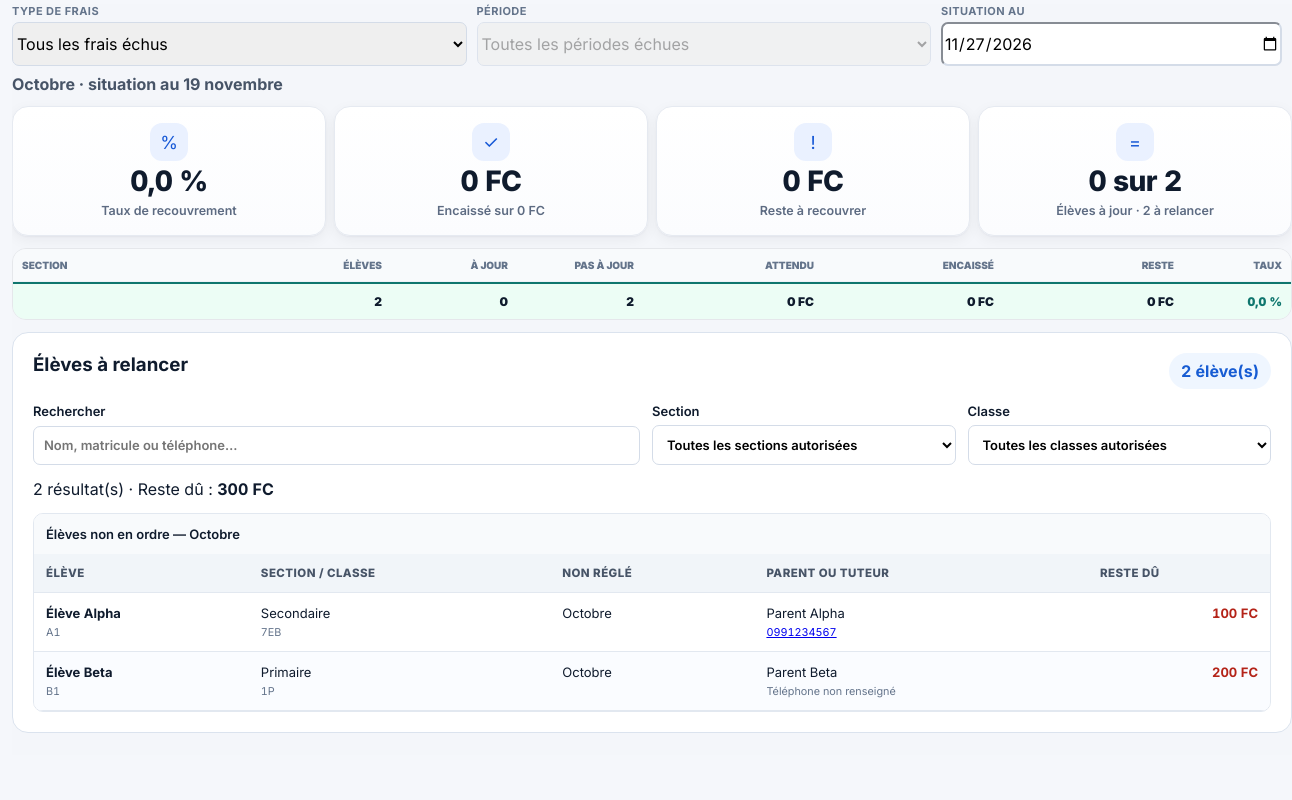
Test: shows named debtors and contacts, searches without accents, and filters by authorized section
Expected: the text "Élève Alpha" is shown, [46,605,121,621]
In the search field: (336, 445) [33,426,640,465], type "eleve alpha"
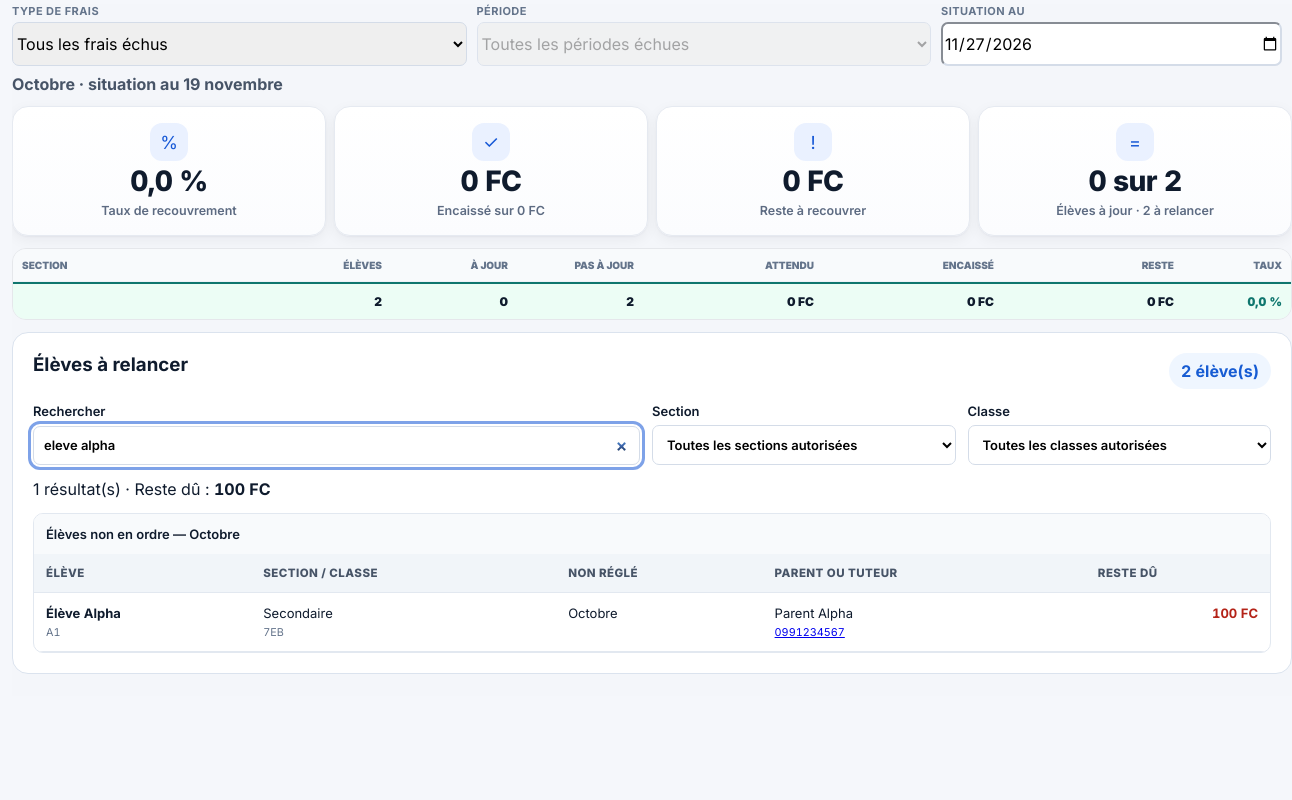
Now the text "Élève Beta" is gone
Clear the search field: (336, 445) [33,426,640,465]
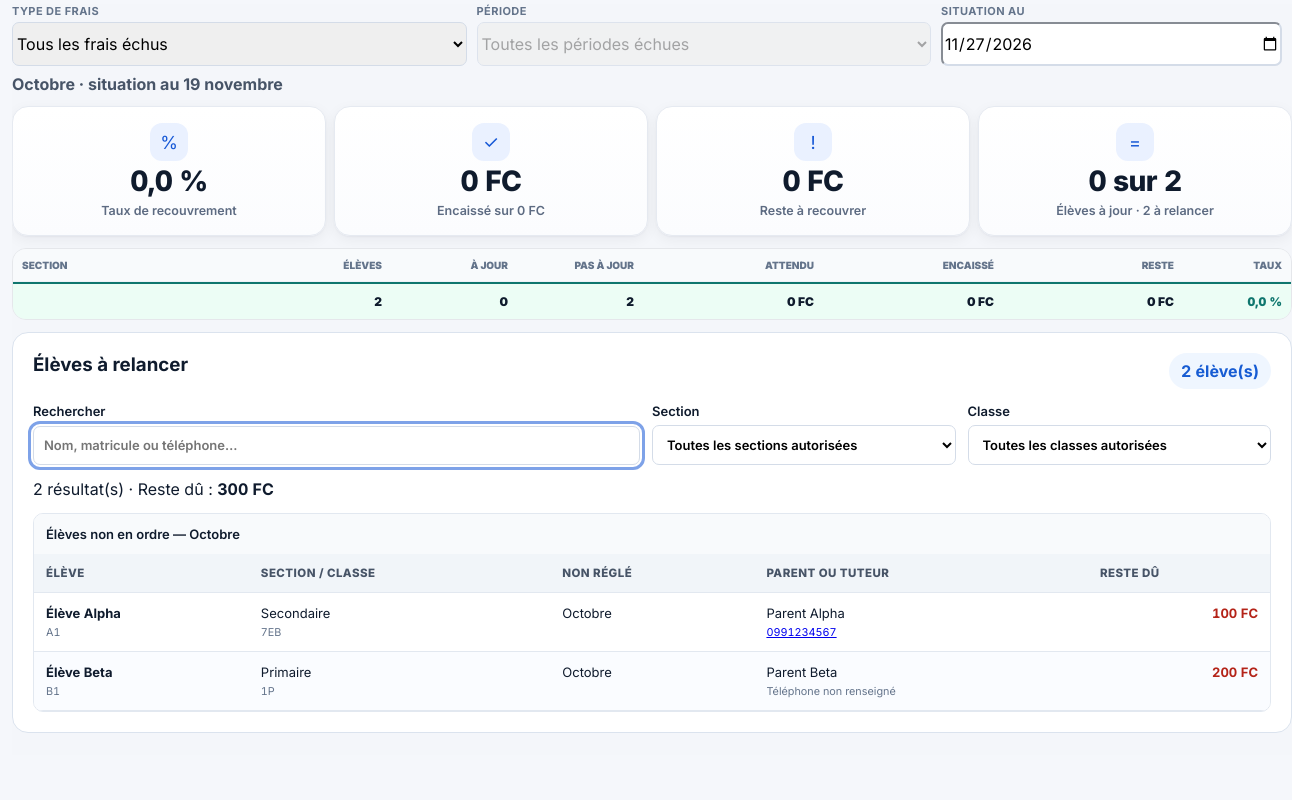
Select "Primaire" in the dropdown named "Section des élèves à relancer": (804, 445) [652,425,956,465]
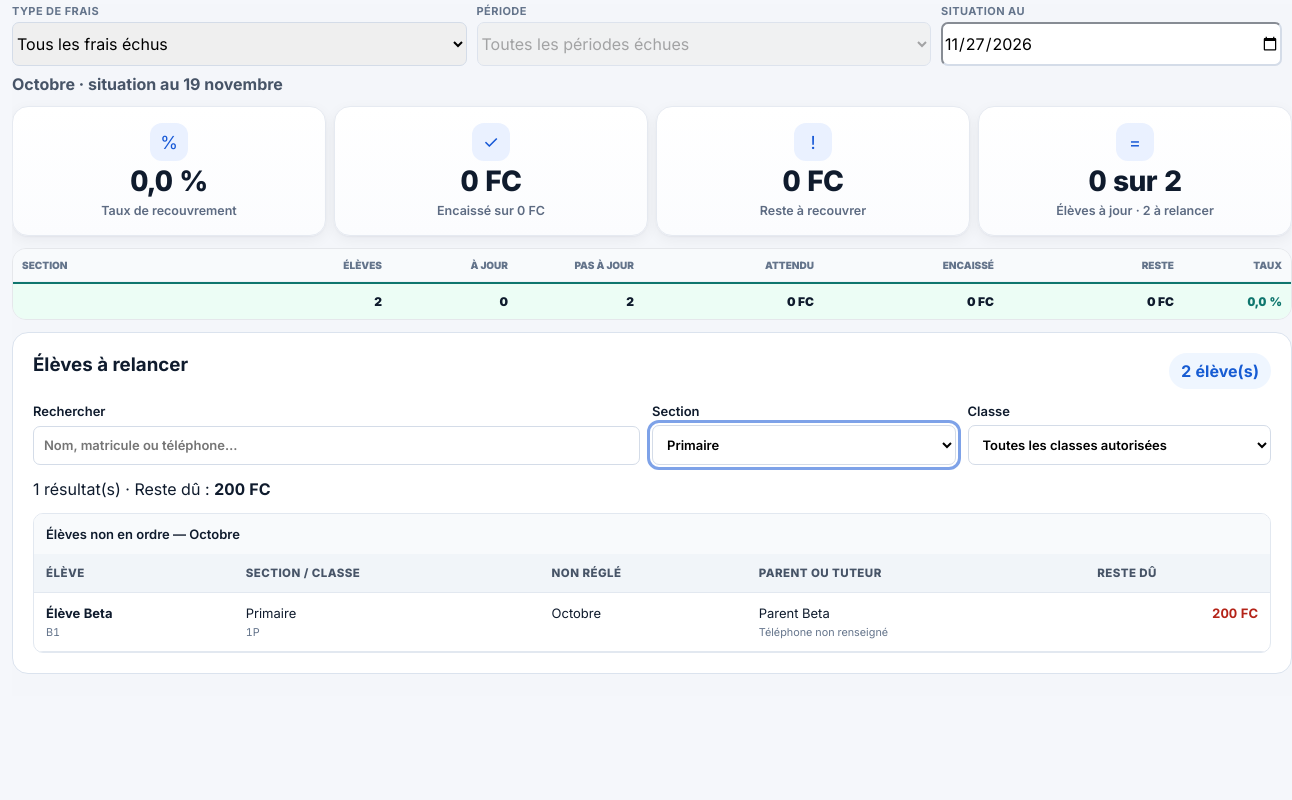
Now the text "Élève Beta" is shown, box [46,605,112,621]
Now the text "Élève Alpha" is gone
